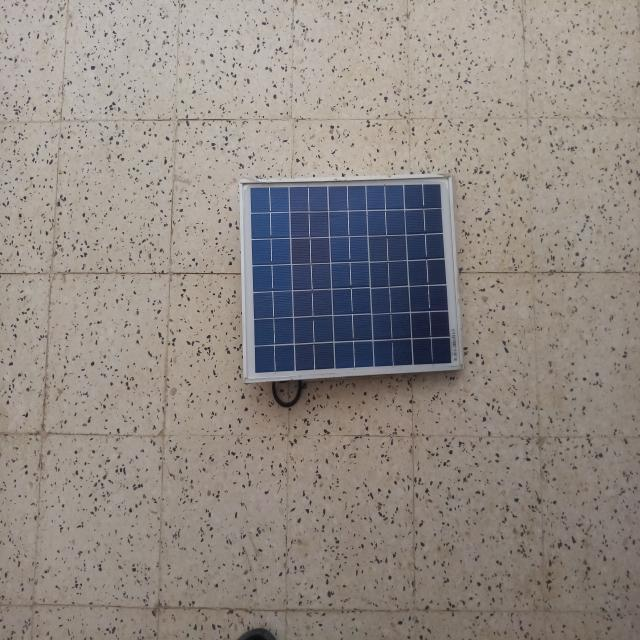no faulty: (240, 173, 463, 383)
